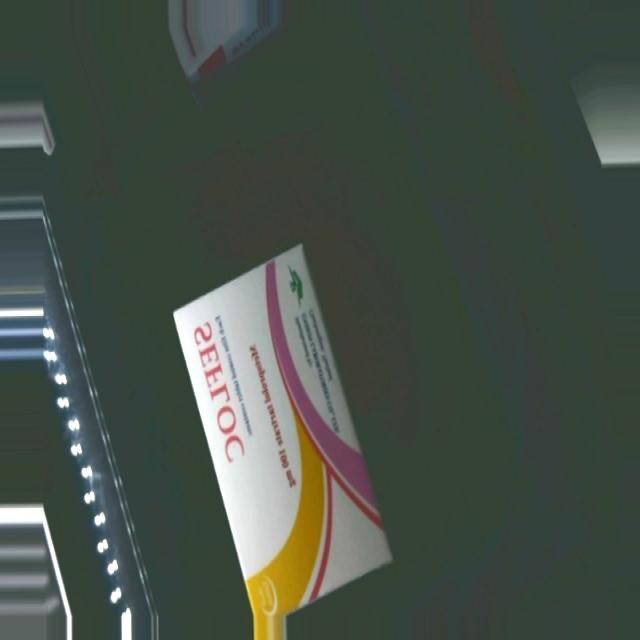medicine_name_detection: (170, 245, 390, 627)
